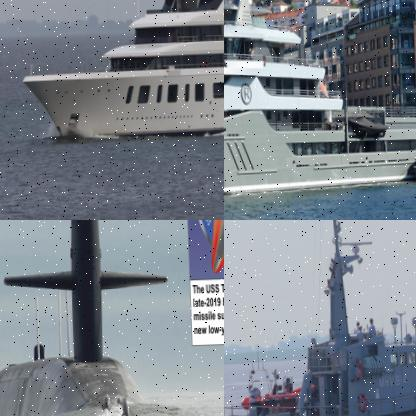Patrol Boat: (224, 220, 415, 415)
Submarine: (0, 220, 174, 415)
Yacht: (224, 0, 415, 202), (16, 0, 223, 140)
